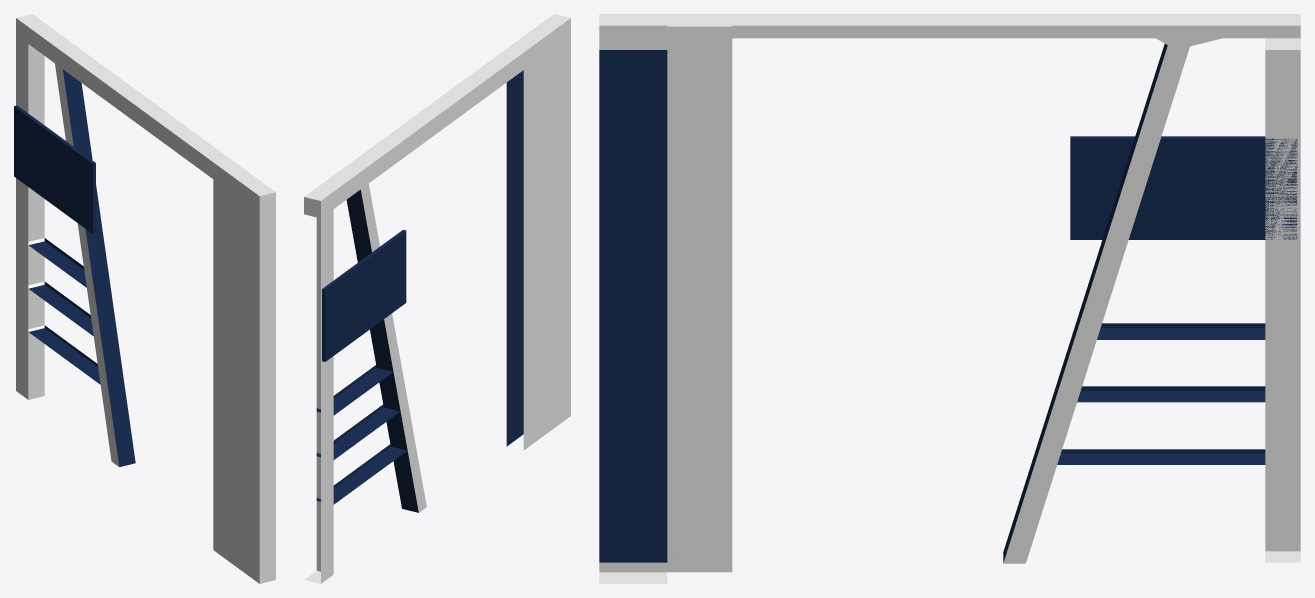
The model's file is ParedLateralS5.obj.
3 renders of one model, left to right at view 1: azimuth 30°, elevation 25°; view 2: azimuth 150°, elevation 25°; view 3: azimuth 270°, elevation 25°, orthographic. The views are drawn at different scales.
Parts seen in each view (by area): view 1: ParedLateralS5; view 2: ParedLateralS5; view 3: ParedLateralS5.
Boxes of the visible parts, box(x1,y1,x2,y2) form: ParedLateralS5: box(14, 14, 275, 583); ParedLateralS5: box(304, 14, 570, 583); ParedLateralS5: box(599, 14, 1300, 583).
Size of the model in its own units: 0.7457 by 14.07 by 16.01.
3 materials, 3 textured.
